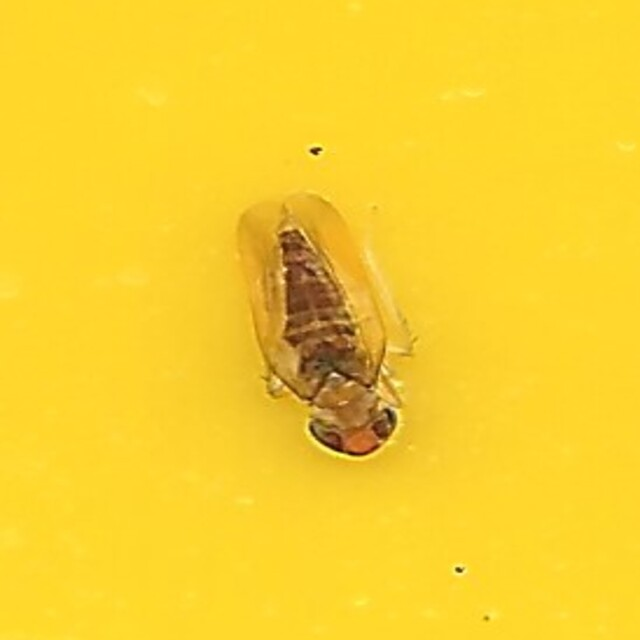Hemiptera: (234, 187, 406, 453)
